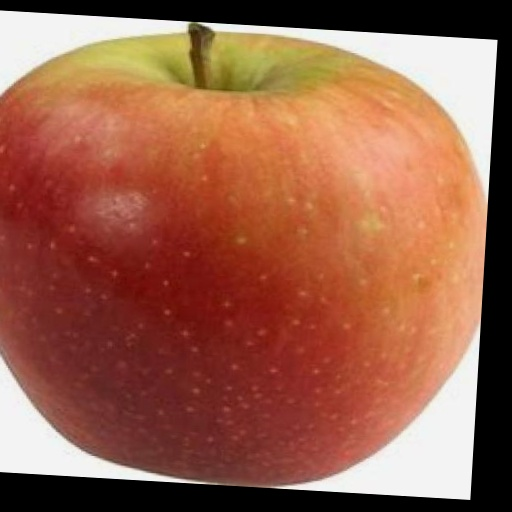fruit: (0, 26, 486, 484)
